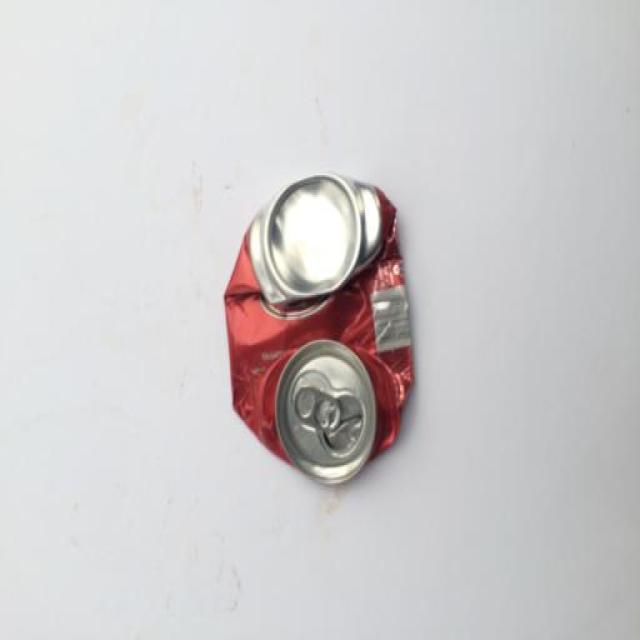Metal: (222, 172, 416, 487)
